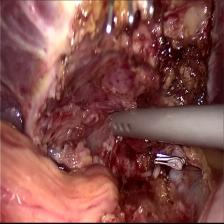Irrigator: (107, 104, 150, 147)
